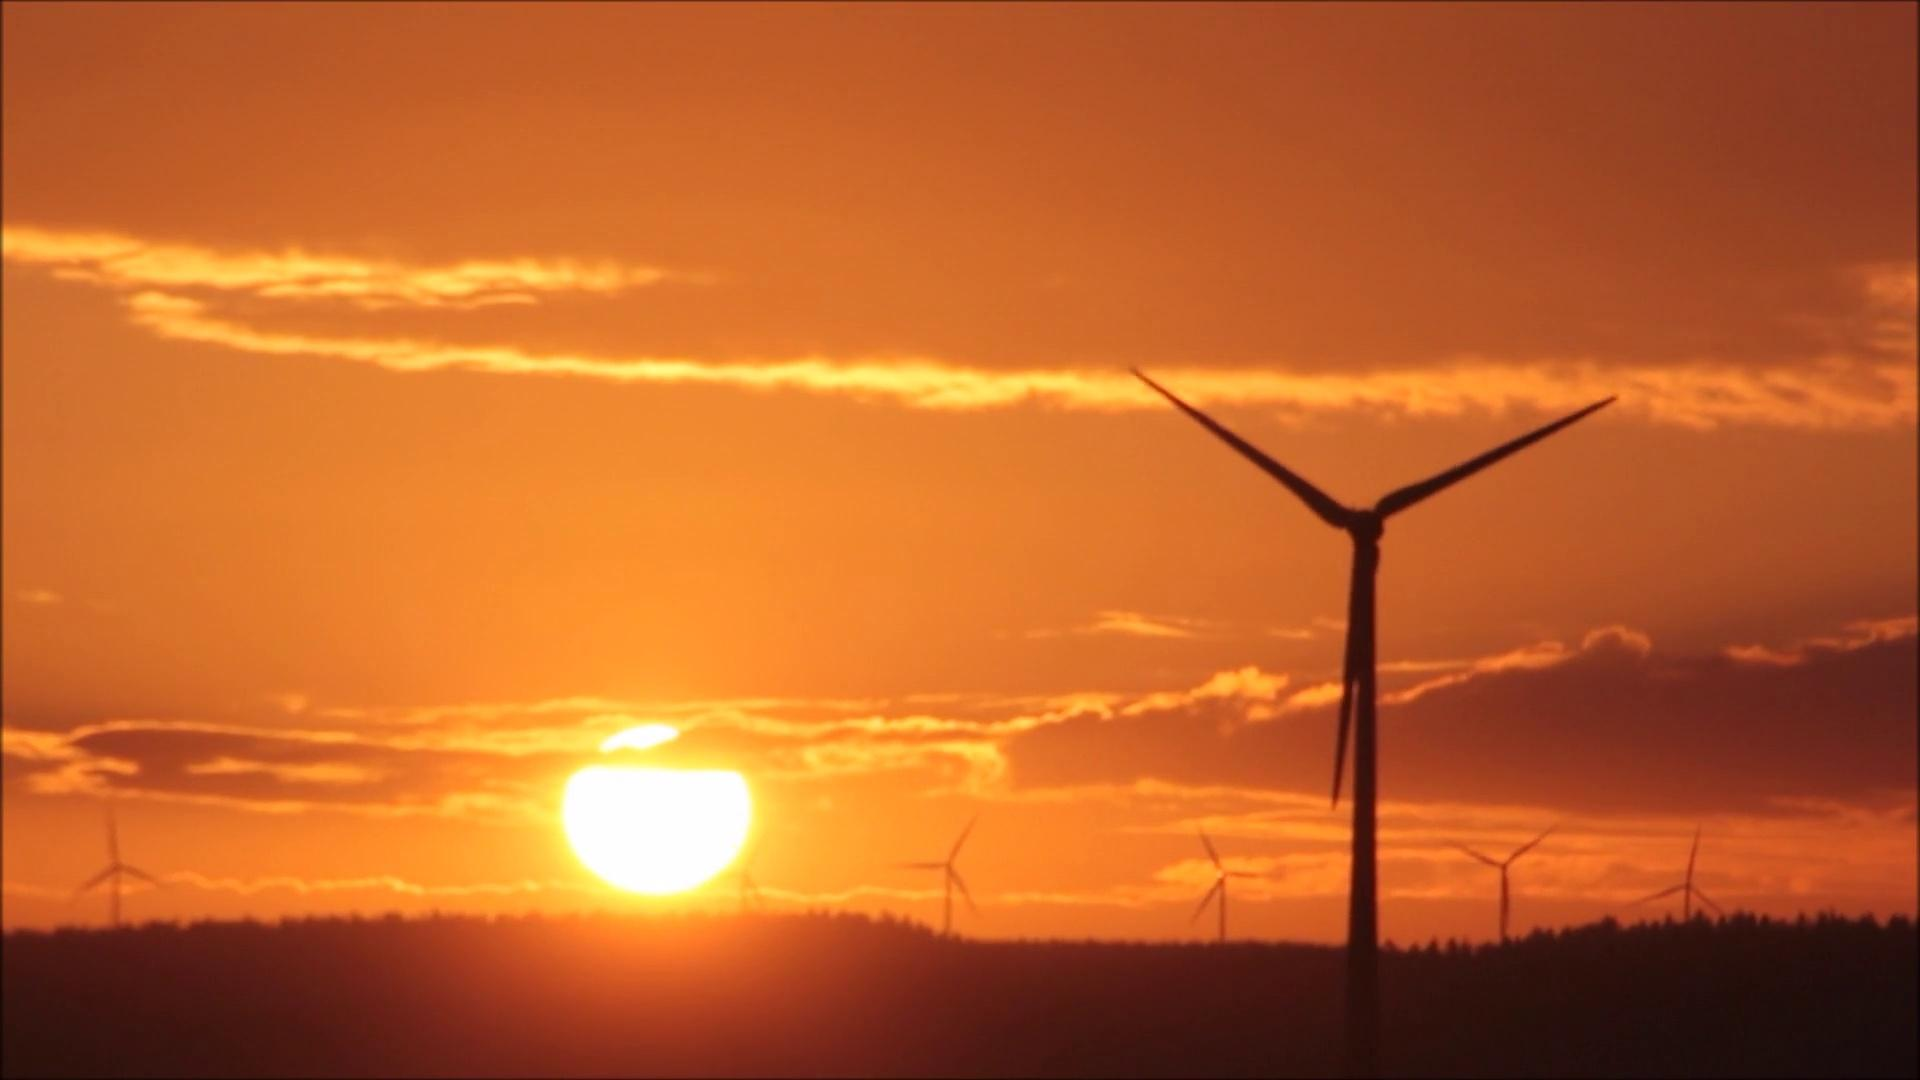turbine: (1114, 301, 1644, 976), (1432, 804, 1573, 963), (876, 804, 1022, 947), (37, 806, 187, 936), (1149, 823, 1302, 949), (1622, 818, 1750, 967), (702, 832, 787, 927)
